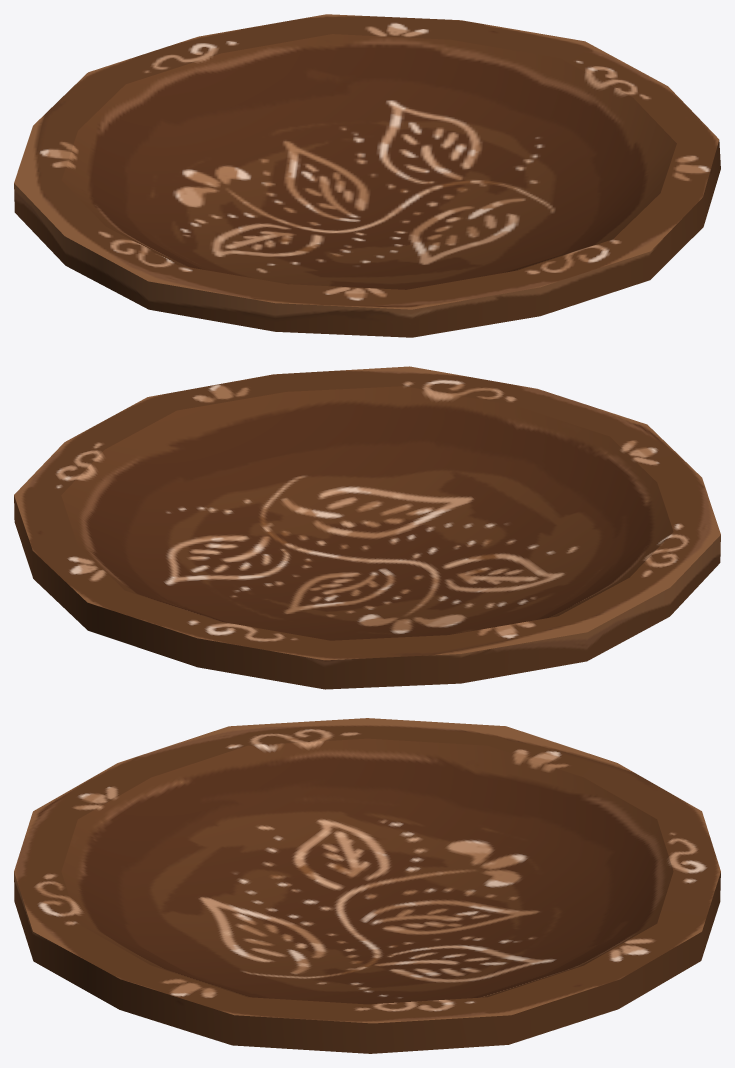
Rendered from SM_PROP_plate_dungeon_06.fbx.
The picture shows the model from 3 angles, top to bottom: view 1: azimuth 30°, elevation 25°; view 2: azimuth 150°, elevation 25°; view 3: azimuth 270°, elevation 25°; orthographic projection. The views are drawn at different scales.
Parts seen in each view (by area): view 1: SM_PROP_plate_dungeon_06; view 2: SM_PROP_plate_dungeon_06; view 3: SM_PROP_plate_dungeon_06.
Part boxes in pixels (x1=…): SM_PROP_plate_dungeon_06: x1=14, y1=14, x2=720, y2=337; SM_PROP_plate_dungeon_06: x1=14, y1=366, x2=720, y2=689; SM_PROP_plate_dungeon_06: x1=14, y1=718, x2=720, y2=1053.
Bounding box in the file's own units: 31.54 × 3.99 × 30.81.
